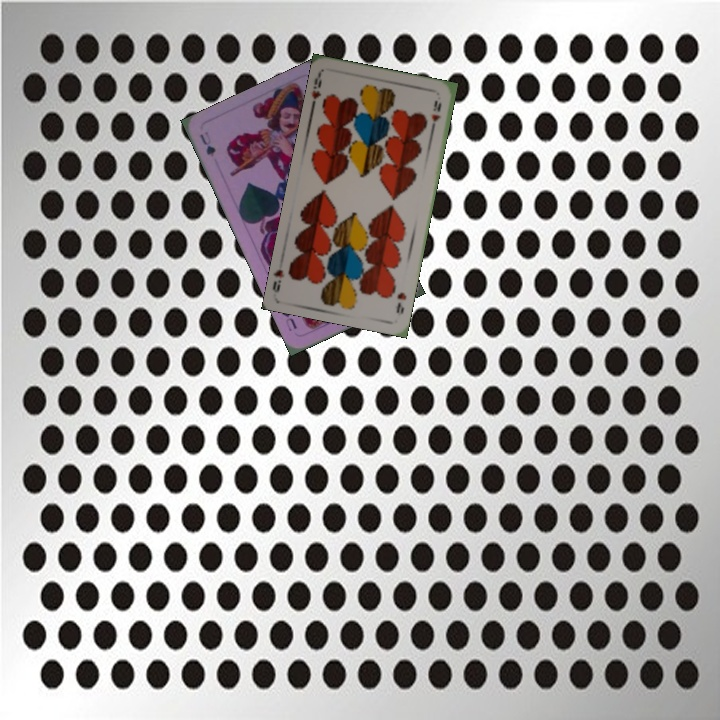GU: (196, 128, 218, 160)
H9: (307, 70, 324, 110), (392, 288, 409, 316)
